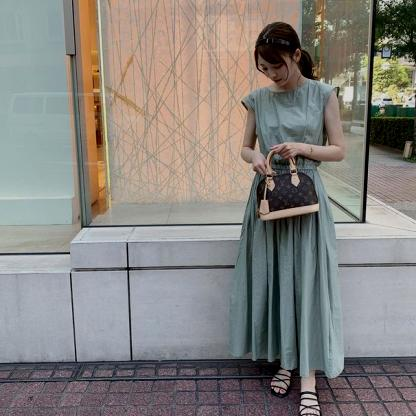jacket: (242, 84, 347, 376)
